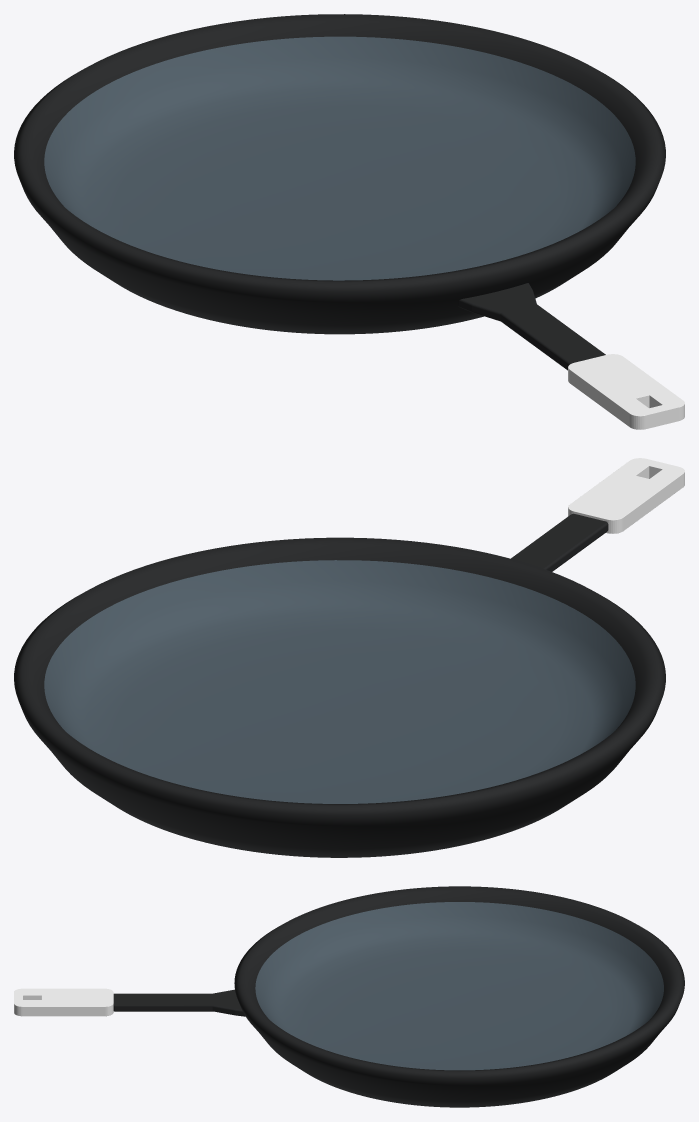
3 views of the same model, one above another, from view 1: azimuth 30°, elevation 25°; view 2: azimuth 150°, elevation 25°; view 3: azimuth 270°, elevation 25° (orthographic). The views are drawn at different scales.
Visible parts, largest first — view 1: pan_body, wooden_grip_section, flat_handle_core; view 2: pan_body, wooden_grip_section, flat_handle_core; view 3: pan_body, wooden_grip_section, flat_handle_core.
Boxes of the visible parts, x1=… form: pan_body: x1=14, y1=14, x2=665, y2=334; wooden_grip_section: x1=568, y1=354, x2=684, y2=429; flat_handle_core: x1=458, y1=283, x2=605, y2=370; pan_body: x1=14, y1=537, x2=665, y2=857; wooden_grip_section: x1=568, y1=458, x2=684, y2=533; flat_handle_core: x1=511, y1=513, x2=608, y2=571; pan_body: x1=234, y1=886, x2=684, y2=1107; wooden_grip_section: x1=14, y1=988, x2=113, y2=1016; flat_handle_core: x1=113, y1=989, x2=245, y2=1016.
Bounding box in the file's own units: 10.32 × 1.45 × 15.37.
